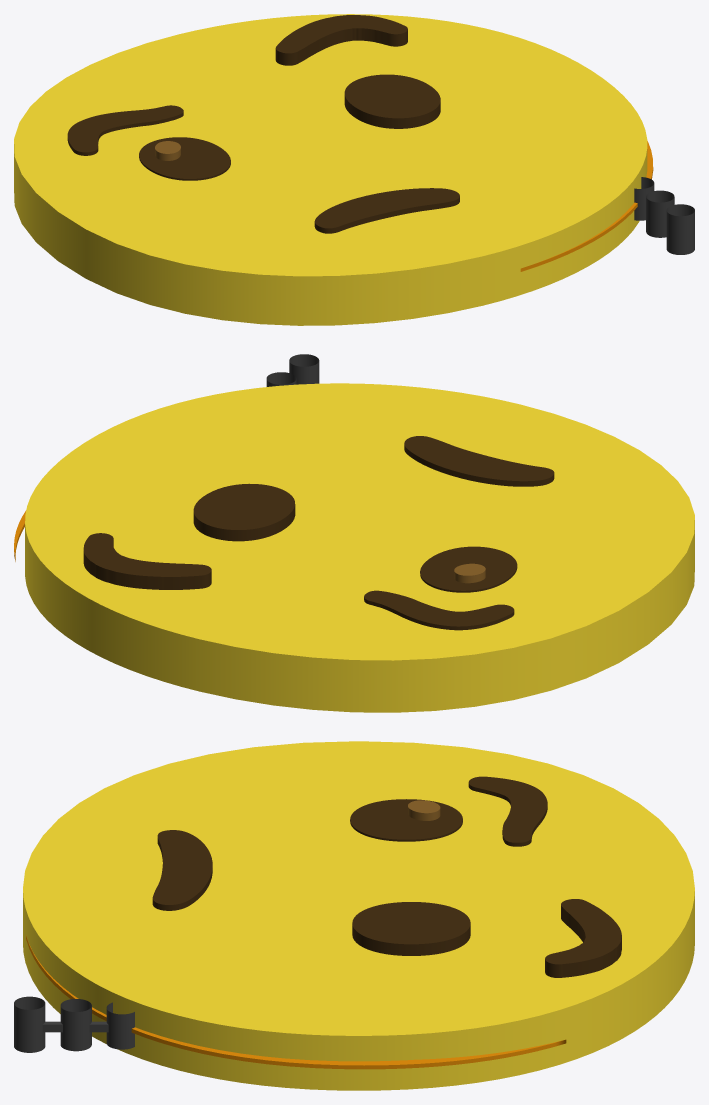
File: emoji_u1f9d0.glb
3 views of the same model, one above another, from view 1: azimuth 30°, elevation 25°; view 2: azimuth 150°, elevation 25°; view 3: azimuth 270°, elevation 25° (orthographic). The views are drawn at different scales.
Visible parts, largest first — view 1: emoji_u1f9d0; view 2: emoji_u1f9d0; view 3: emoji_u1f9d0.
Boxes of the visible parts, x1,y1,x2,y2 form: emoji_u1f9d0: (14, 14, 694, 325); emoji_u1f9d0: (14, 354, 694, 712); emoji_u1f9d0: (14, 741, 694, 1090).
Size of the model in its own units: 0.0328 by 0.0042 by 0.0315.
